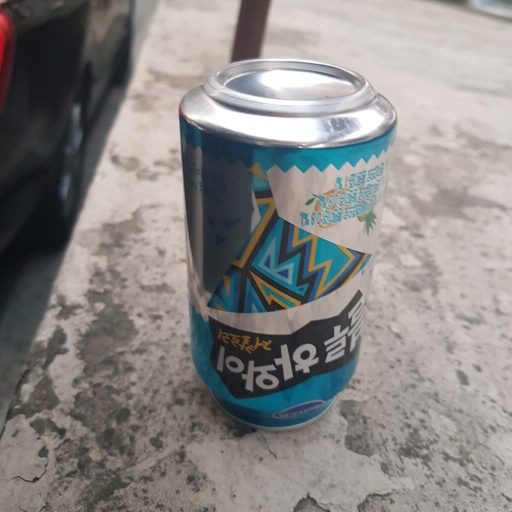Metal_0: (176, 55, 397, 437)
